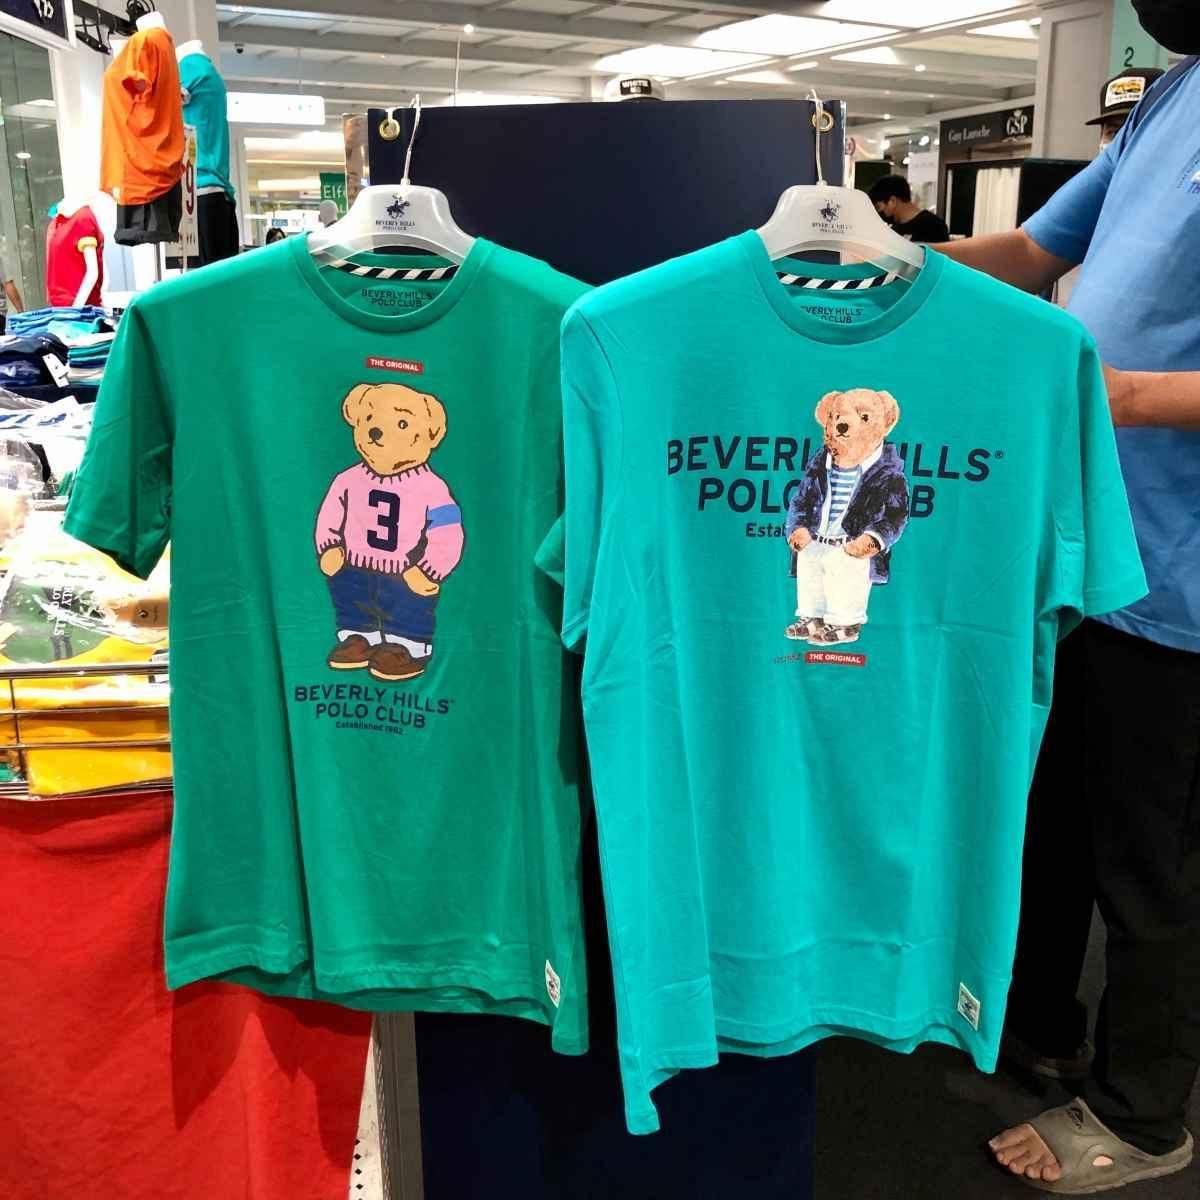Tshirt: (576, 221, 1125, 1058), (56, 223, 586, 999)
